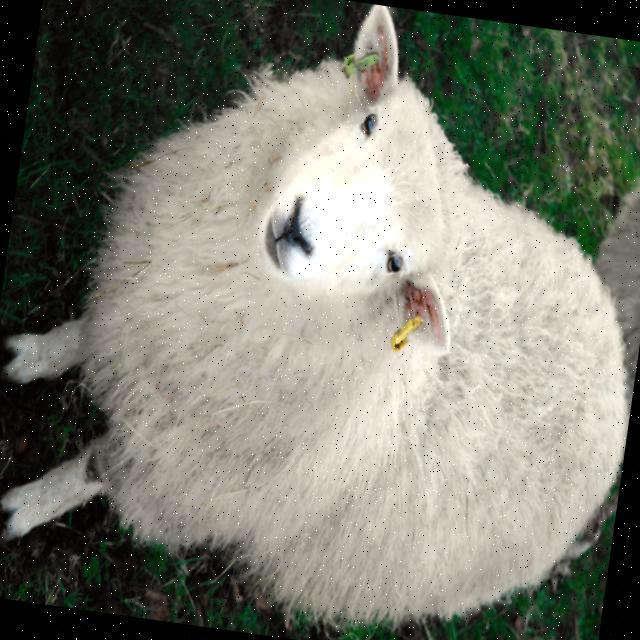sheep: (2, 5, 632, 635)
